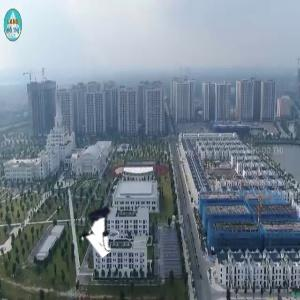drone: (70, 180, 139, 249)
